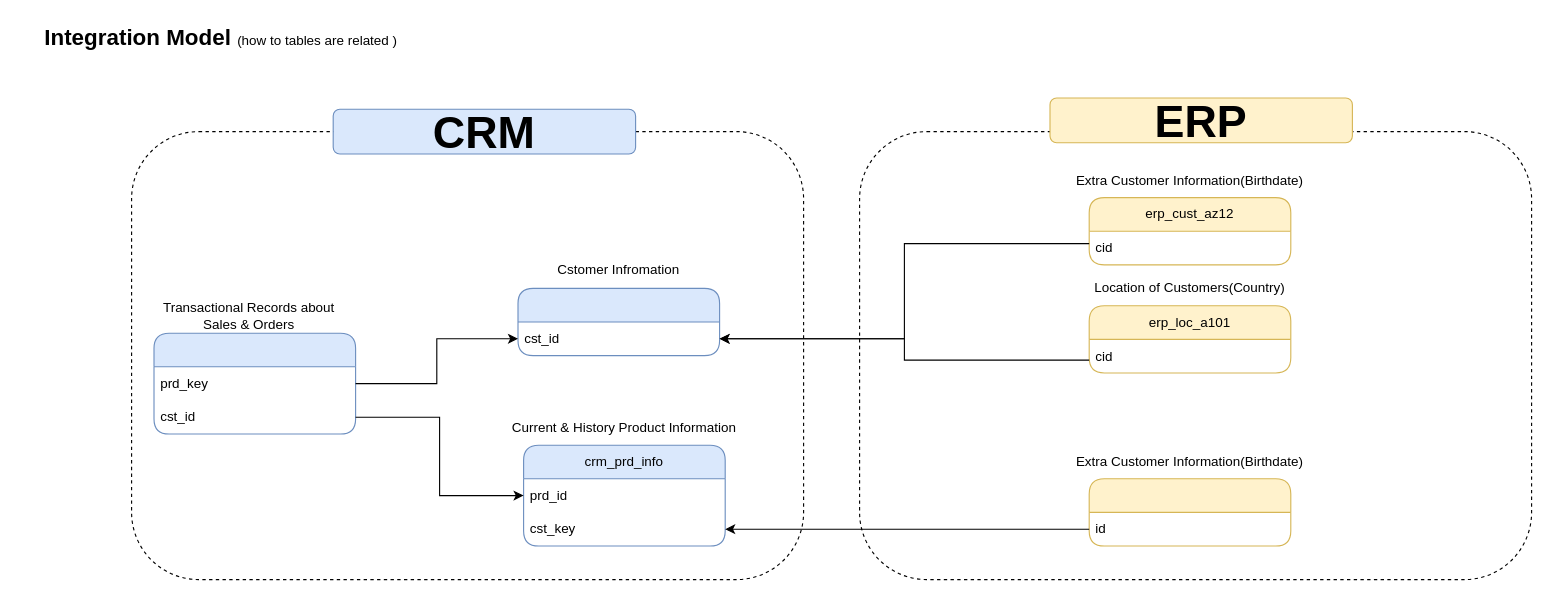
Some shapes in this 1551 by 599 pixel diagram are drawn without their labels. The box of each missing label's shape, as (x1, y1, x2, y2) in pixels:
crm_cust_info: (517, 287, 720, 356)
crm_sales_details: (153, 332, 356, 434)
erp_px_cat_g1v2: (1088, 478, 1291, 546)
